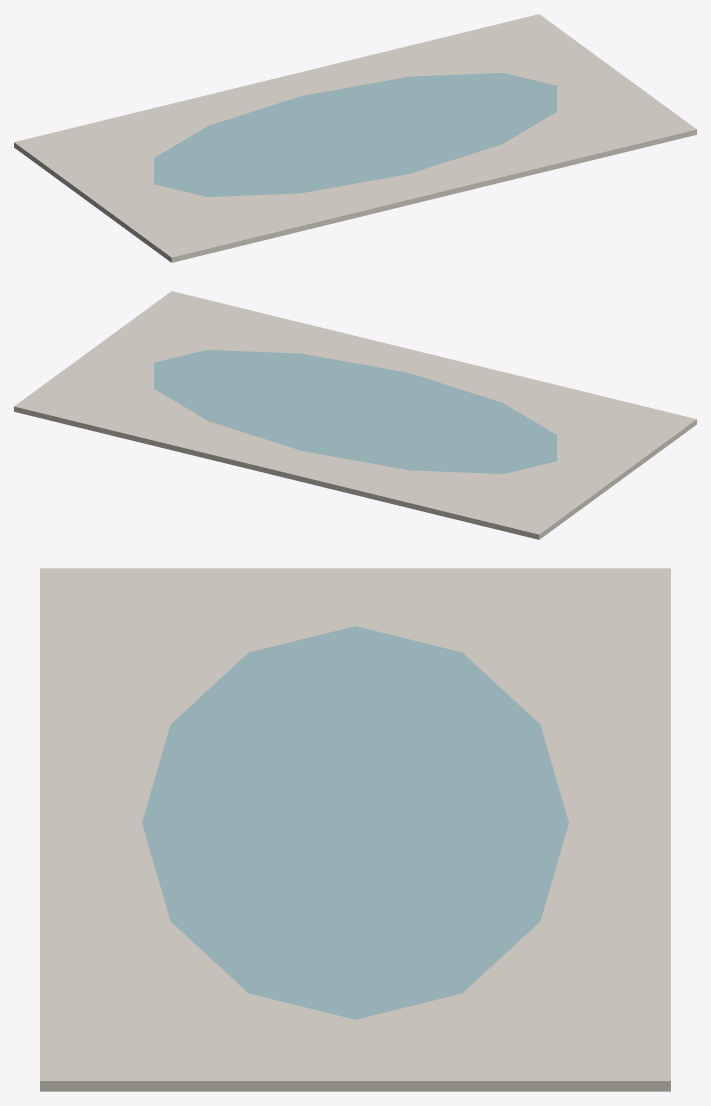
File: pool-area.glb
3 renders of one model, top to bottom at view 1: azimuth 30°, elevation 25°; view 2: azimuth 150°, elevation 25°; view 3: azimuth 270°, elevation 25°, orthographic. The views are drawn at different scales.
Visible parts, largest first — view 1: spatial-root; view 2: spatial-root; view 3: spatial-root.
Boxes of the visible parts, bbox=[...] form: spatial-root: bbox=[14, 14, 696, 262]; spatial-root: bbox=[14, 291, 696, 539]; spatial-root: bbox=[40, 568, 670, 1091].
Size of the model in its own units: 12.5 by 0.14 by 6.5.
